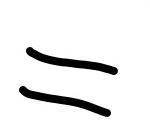eqv: (18, 47, 119, 117)
